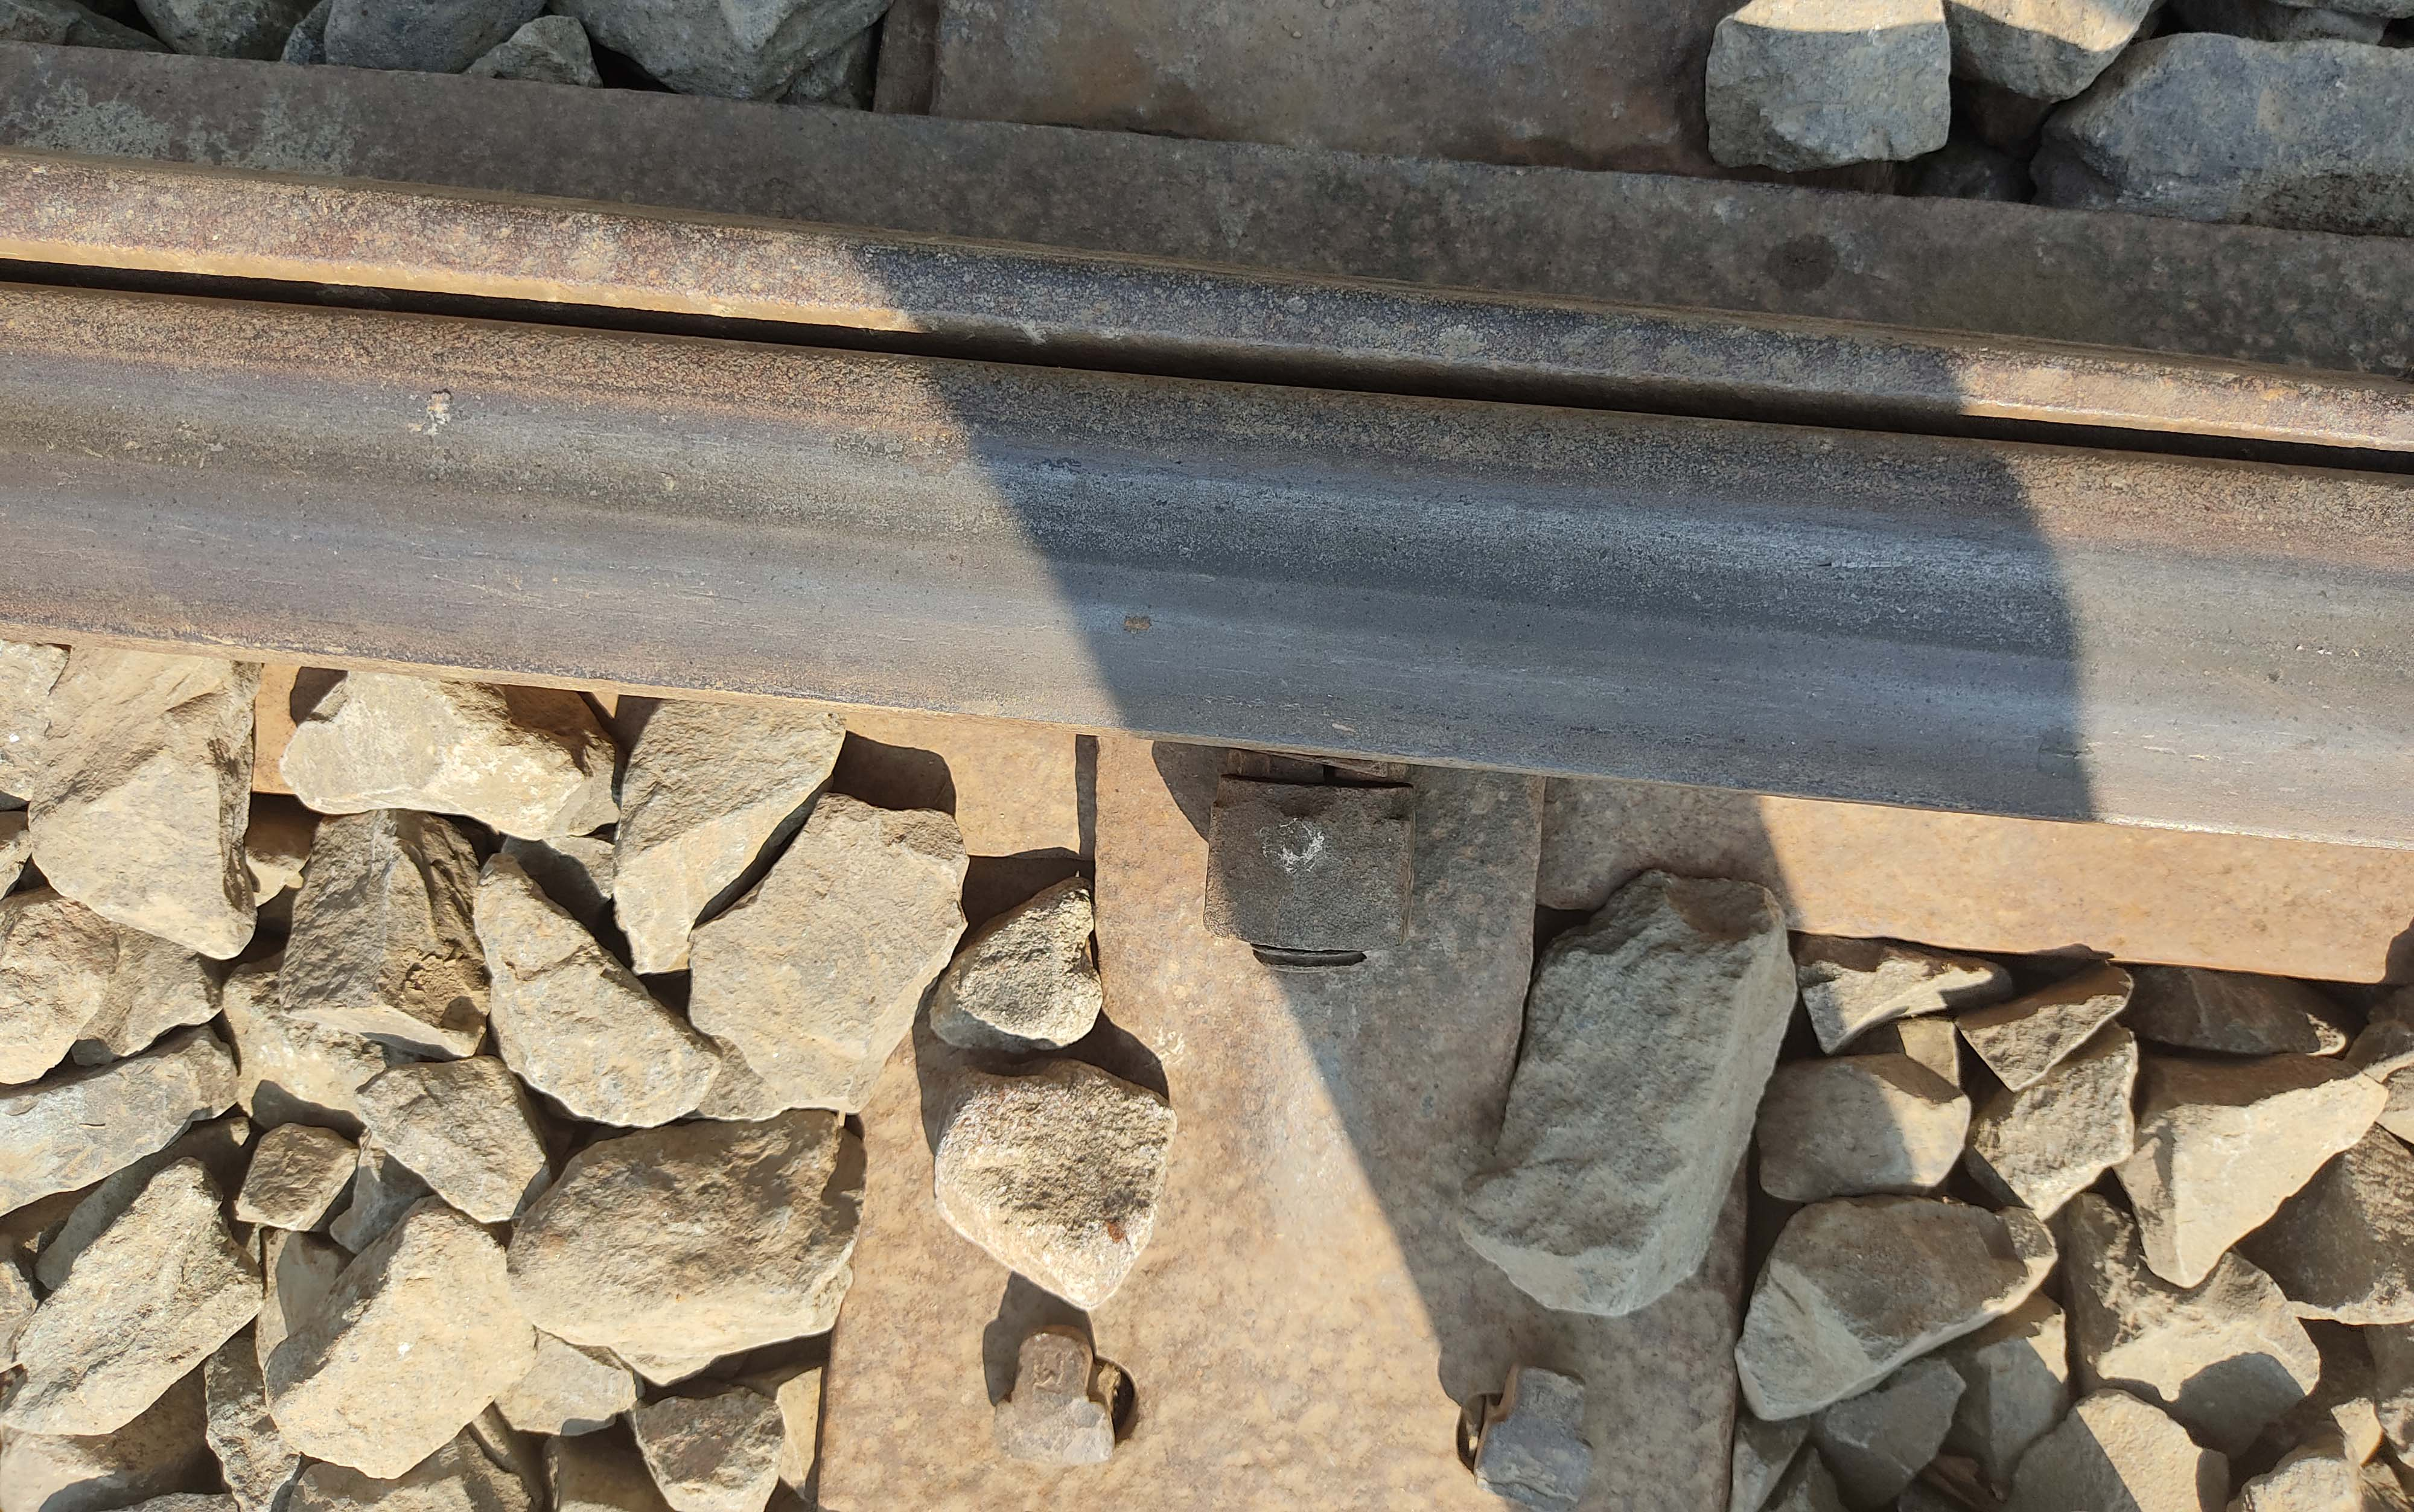error1: (1191, 705, 1491, 1047)
